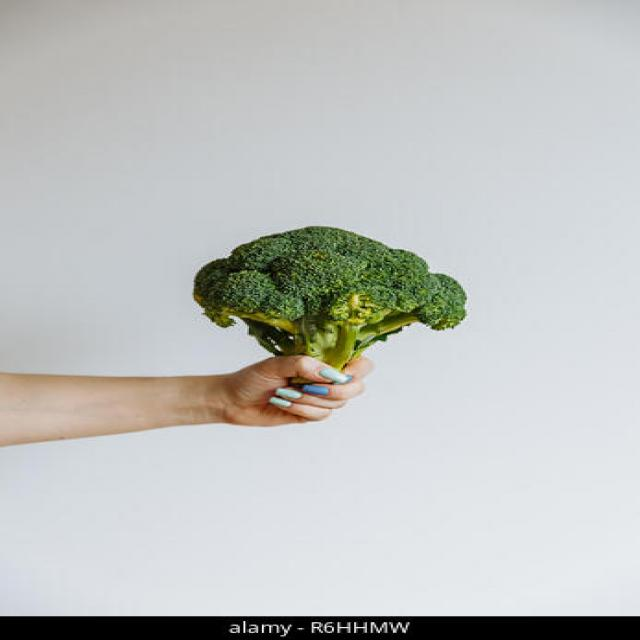broccoli: (188, 222, 484, 385)
